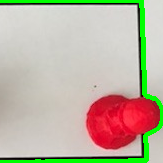Red Pawn: (83, 90, 160, 150)
